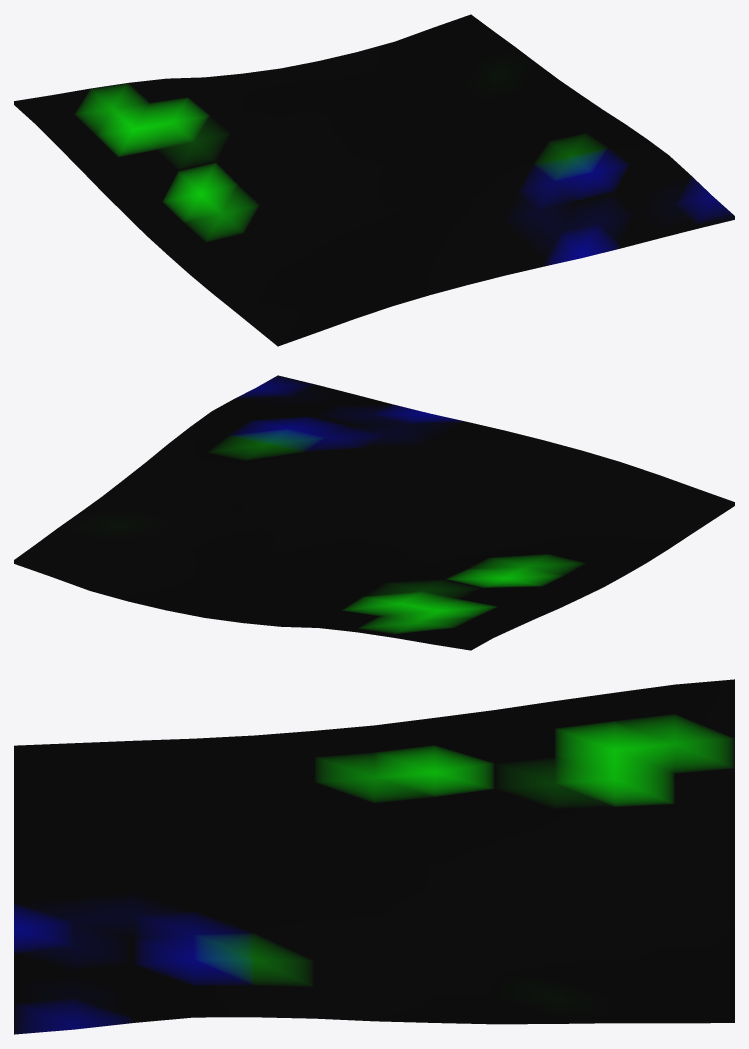
The model's file is coast_20_1.glb.
3 views of the same model, one above another, from view 1: azimuth 30°, elevation 25°; view 2: azimuth 150°, elevation 25°; view 3: azimuth 270°, elevation 25° (orthographic). The views are drawn at different scales.
Parts seen in each view (by area): view 1: terrain; view 2: terrain; view 3: terrain.
Part boxes in pixels (bbox=[...]): terrain: bbox=[14, 14, 734, 346]; terrain: bbox=[14, 375, 734, 650]; terrain: bbox=[14, 679, 734, 1034].
Bounding box in the file's own units: 192 × 20.96 × 192.
